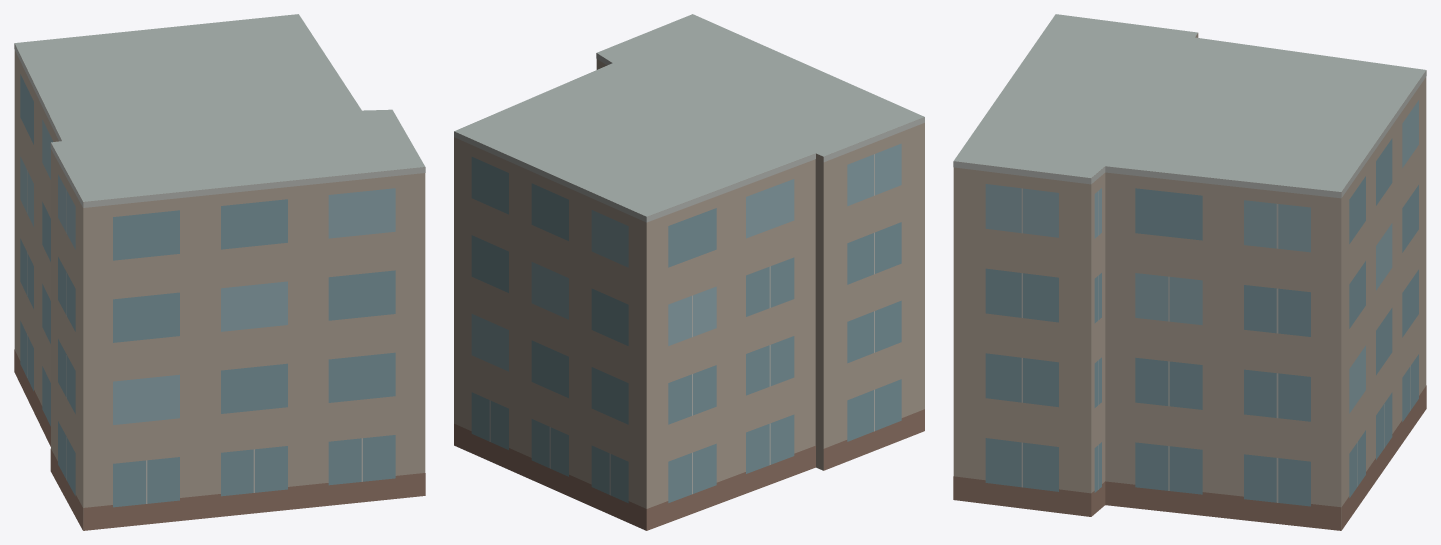
Rendered from survey-upis-32876949.glb.
3 renders of one model, left to right at view 1: azimuth 30°, elevation 25°; view 2: azimuth 150°, elevation 25°; view 3: azimuth 270°, elevation 25°, orthographic. The views are drawn at different scales.
Visible parts, largest first — view 1: survey-upis-32876949.tmp; view 2: survey-upis-32876949.tmp; view 3: survey-upis-32876949.tmp.
Part boxes in pixels (x1,y1,x2,y2): survey-upis-32876949.tmp: (14,14,425,530); survey-upis-32876949.tmp: (454,14,924,530); survey-upis-32876949.tmp: (953,14,1426,530).
Size of the model in its own units: 14.89 by 13.2 by 16.71.
